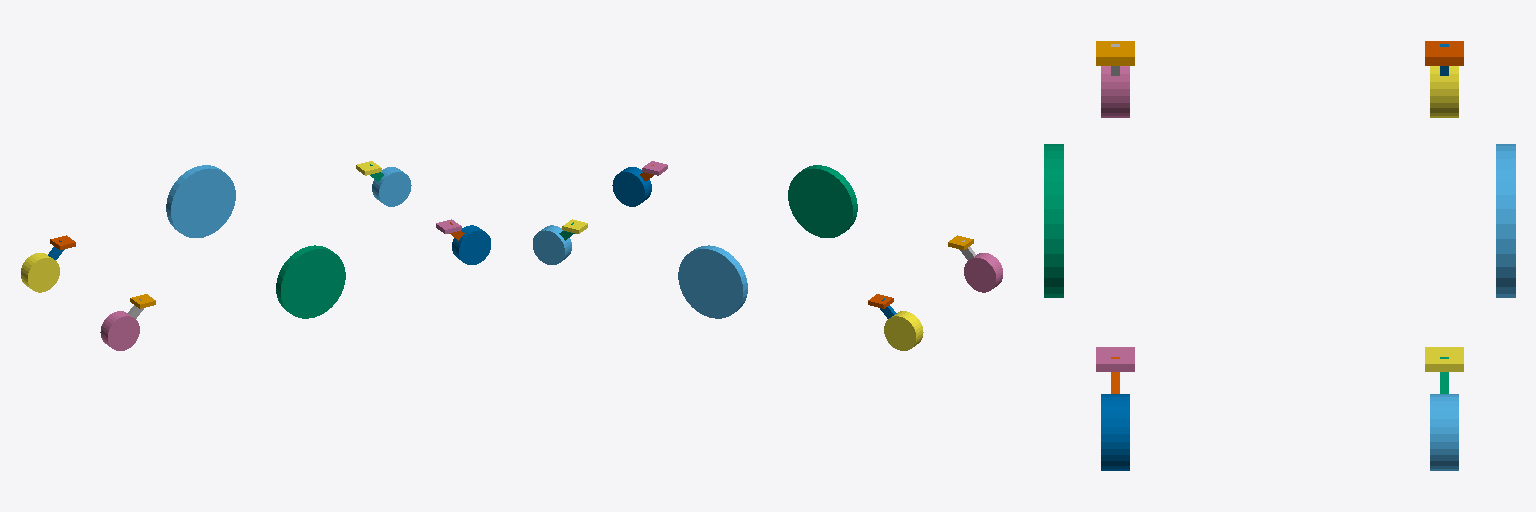
robot.urdf — myfirst:
<?xml version="1.0"?>
<robot name="myfirst">
  <link name="base_link">
    <origin rpy="0 0 0" xyz="0 0 0"/>
  </link>
  

  <!--left_wheel-->

  <link name="left_wheel">
    <visual>
      <geometry>
        <cylinder length="0.02" radius="0.08"/>
      </geometry>
      <origin rpy="1.5707 0 0"/>
    </visual>
  </link>

  <joint name="joint_left_wheel" type="fixed">
    <parent link="base_link"/>
    <child link="left_wheel"/>
    <origin xyz="0 0.2335 0"/>
  </joint>

  <!--right_wheel-->

  <link name="right_wheel">
    <visual>
      <geometry>
        <cylinder length="0.02" radius="0.08"/>
      </geometry>
      <origin rpy="1.5707 0 0"/>
    </visual>
  </link>

  <joint name="joint_right_wheel" type="continuous">
    <axis rpy="0 0 0" xyz="0 1 0"/>
    <parent link="base_link"/>
    <child link="right_wheel"/>
    <origin xyz="0 -0.2335 0"/>
  </joint>


  <!--left_back_caster_wheel-->

  <link name="left_back_caster_wheel">
    <visual>
      <geometry>
        <cylinder length="0.03" radius="0.04"/>
      </geometry>
      <origin rpy="1.5707 0 0"/>
    </visual>
  </link>

  <joint name="joint_left_back_caster_wheel" type="fixed">
    <parent link="left_back_holder"/>
    <child link="left_back_caster_wheel"/>
    <origin xyz="-0.0565 0 -0.0565"/>
  </joint>

                <!-- left_back_holder -->

  <link name="left_back_holder">
    <visual>
      <geometry>
        <box size="0.02 0.08 0.01"/>
      </geometry>
      <origin rpy="1.5707 0.7853 0" xyz="-0.0283 0.0 -0.0283"/>
    </visual>
  </link>

  <joint name="left_back_holder" type="continuous">
    <axis rpy="0 0 0" xyz="0 0 1"/>
    <parent link="left_back_fix_holder"/>
    <child link="left_back_holder"/>
    <origin xyz="0 0 0"/>
  </joint>  

          <!-- left_back_fix holder -->

  <link name="left_back_fix_holder">
    <visual>
      <geometry>
        <box size="0.04 0.04 0.01"/>
      </geometry>
      <origin rpy="0 0 0" xyz="0 0 0"/>
    </visual>
  </link>

  <joint name="joint_left_back_fix_holder" type="fixed">
    <parent link="base_link"/>
    <child link="left_back_fix_holder"/>
    <origin xyz="-0.3749 0.170 0.0165"/>
  </joint> 




  <!--right_back_caster_wheel-->

  <link name="right_back_caster_wheel">
    <visual>
      <geometry>
        <cylinder length="0.03" radius="0.04"/>
      </geometry>
      <origin rpy="1.5707 0 0"/>
    </visual>
  </link>

  <joint name="joint_right_back_caster_wheel" type="fixed">
    <parent link="right_back_holder"/>
    <child link="right_back_caster_wheel"/>
    <origin xyz="-0.0565 0 -0.0565"/>
  </joint>

              <!-- right_back_holder -->

  <link name="right_back_holder">
    <visual>
      <geometry>
        <box size="0.02 0.08 0.01"/>
      </geometry>
      <origin rpy="1.5707 0.7853 0" xyz="-0.0283 0.0 -0.0283"/>
    </visual>
  </link>

  <joint name="right_back_holder" type="continuous">
    <axis rpy="0 0 0" xyz="0 0 1"/>
    <parent link="right_back_fix_holder"/>
    <child link="right_back_holder"/>
    <origin xyz="0 0 0"/>
  </joint>  

          <!-- right_back_fix holder -->

  <link name="right_back_fix_holder">
    <visual>
      <geometry>
        <box size="0.04 0.04 0.01"/>
      </geometry>
      <origin rpy="0 0 0" xyz="0 0 0"/>
    </visual>
  </link>

  <joint name="joint_right_back_fix_holder" type="fixed">
    <parent link="base_link"/>
    <child link="right_back_fix_holder"/>
    <origin xyz="-0.3749 -0.170 0.0165"/>
  </joint> 


  <!--left_front_caster_wheel-->

  <link name="left_front_caster_wheel">
    <visual>
      <geometry>
        <cylinder length="0.03" radius="0.04"/>
      </geometry>
      <origin rpy="1.5707 0 0"/>
    </visual>
  </link>

  <joint name="joint_left_front_caster_wheel" type="fixed">
    <parent link="left_front_holder"/>
    <child link="left_front_caster_wheel"/>
    <origin xyz="0.0565 0 -0.0565"/>
  </joint>

            <!-- left_front_holder -->

  <link name="left_front_holder">
    <visual>
      <geometry>
        <box size="0.02 0.08 0.01"/>
      </geometry>
      <origin rpy="1.5707 -0.7853 0" xyz="0.0283 0.0 -0.0283"/>
    </visual>
  </link>

  <joint name="joint_left_front_holder" type="continuous">
    <axis rpy="0 0 0" xyz="0 0 1"/>
    <parent link="left_front_fix_holder"/>
    <child link="left_front_holder"/>
    <origin xyz="0 0 0"/>
  </joint>  

          <!-- left_front_fix holder -->

  <link name="left_front_fix_holder">
    <visual>
      <geometry>
        <box size="0.04 0.04 0.01"/>
      </geometry>
      <origin rpy="0 0 0" xyz="0 0 0"/>
    </visual>
  </link>

  <joint name="joint_left_front_fix_holder" type="fixed">
    <parent link="base_link"/>
    <child link="left_front_fix_holder"/>
    <origin xyz="0.3749 0.170 0.0165"/>
  </joint> 


  <!--right_front_caster_wheel-->

  <link name="right_front_caster_wheel">
    <visual>
      <geometry>
        <cylinder length="0.03" radius="0.04"/>
      </geometry>
      <origin rpy="1.5707 0 0"/>
    </visual>
  </link>

  <joint name="joint_right_front_caster_wheel" type="continuous">
    <axis rpy="0 0 0" xyz="0 1 0"/>
    <parent link="right_front_holder"/>
    <child link="right_front_caster_wheel"/>
    <origin xyz="0.0565 0 -0.0565"/>
  </joint>  

          <!-- right_front_holder -->

  <link name="right_front_holder">
    <visual>
      <geometry>
        <box size="0.02 0.08 0.01"/>
      </geometry>
      <origin rpy="1.5707 -0.7853 0" xyz="0.0283 0.0 -0.0283"/>
    </visual>
  </link>

  <joint name="joint_right_front_holder" type="continuous">
    <axis rpy="0 0 0" xyz="0 0 1"/>
    <parent link="right_front_fix_holder"/>
    <child link="right_front_holder"/>
    <origin xyz="0 0 0"/>
  </joint>  

          <!-- right_front_fix holder -->

  <link name="right_front_fix_holder">
    <visual>
      <geometry>
        <box size="0.04 0.04 0.01"/>
      </geometry>
      <origin rpy="0 0 0" xyz="0 0 0"/>
    </visual>
  </link>

  <joint name="joint_right_front_fix_holder" type="fixed">
    <parent link="base_link"/>
    <child link="right_front_fix_holder"/>
    <origin xyz="0.3749 -0.170 0.0165"/>
  </joint> 

  
</robot>

--- What the picture shows (computed from the rendered views, not written in the file) ---
3 views of the same robot in one strip: view 1: azimuth 30°, elevation 25°; view 2: azimuth 150°, elevation 25°; view 3: azimuth 270°, elevation 25° (orthographic).
Model myfirst with 15 links and 14 joints (6 continuous, 8 fixed), rooted at base_link, posed every joint at zero.
Links seen in each view (by area): view 1: right_wheel, left_wheel, right_back_caster_wheel, left_back_caster_wheel, left_front_caster_wheel, right_front_caster_wheel; view 2: left_wheel, right_wheel, left_back_caster_wheel, right_back_caster_wheel, right_front_caster_wheel, left_front_caster_wheel; view 3: left_wheel, right_wheel, left_front_caster_wheel, right_front_caster_wheel, left_back_caster_wheel, right_back_caster_wheel, left_front_fix_holder, right_front_fix_holder, left_back_fix_holder, right_back_fix_holder.
Boxes of the visible links, <box> form: right_wheel: <box>276,245,345,318</box>; left_wheel: <box>166,165,235,237</box>; right_back_caster_wheel: <box>100,311,139,350</box>; left_back_caster_wheel: <box>21,253,59,292</box>; left_front_caster_wheel: <box>372,167,411,206</box>; right_front_caster_wheel: <box>452,225,490,264</box>; left_wheel: <box>678,245,747,318</box>; right_wheel: <box>788,165,857,237</box>; left_back_caster_wheel: <box>884,311,923,350</box>; right_back_caster_wheel: <box>964,253,1002,292</box>; right_front_caster_wheel: <box>612,167,651,206</box>; left_front_caster_wheel: <box>533,225,571,264</box>; left_wheel: <box>1496,144,1515,297</box>; right_wheel: <box>1044,144,1063,297</box>; left_front_caster_wheel: <box>1430,394,1458,470</box>; right_front_caster_wheel: <box>1101,394,1129,470</box>; left_back_caster_wheel: <box>1430,66,1458,117</box>; right_back_caster_wheel: <box>1101,66,1129,117</box>; left_front_fix_holder: <box>1425,347,1463,371</box>; right_front_fix_holder: <box>1096,347,1134,371</box>; left_back_fix_holder: <box>1425,41,1463,65</box>; right_back_fix_holder: <box>1096,41,1134,65</box>.
Size in the robot's own frame: 0.9428 by 0.487 by 0.16 metres.
Geometry: primitives only (box / cylinder / sphere), no mesh files.
